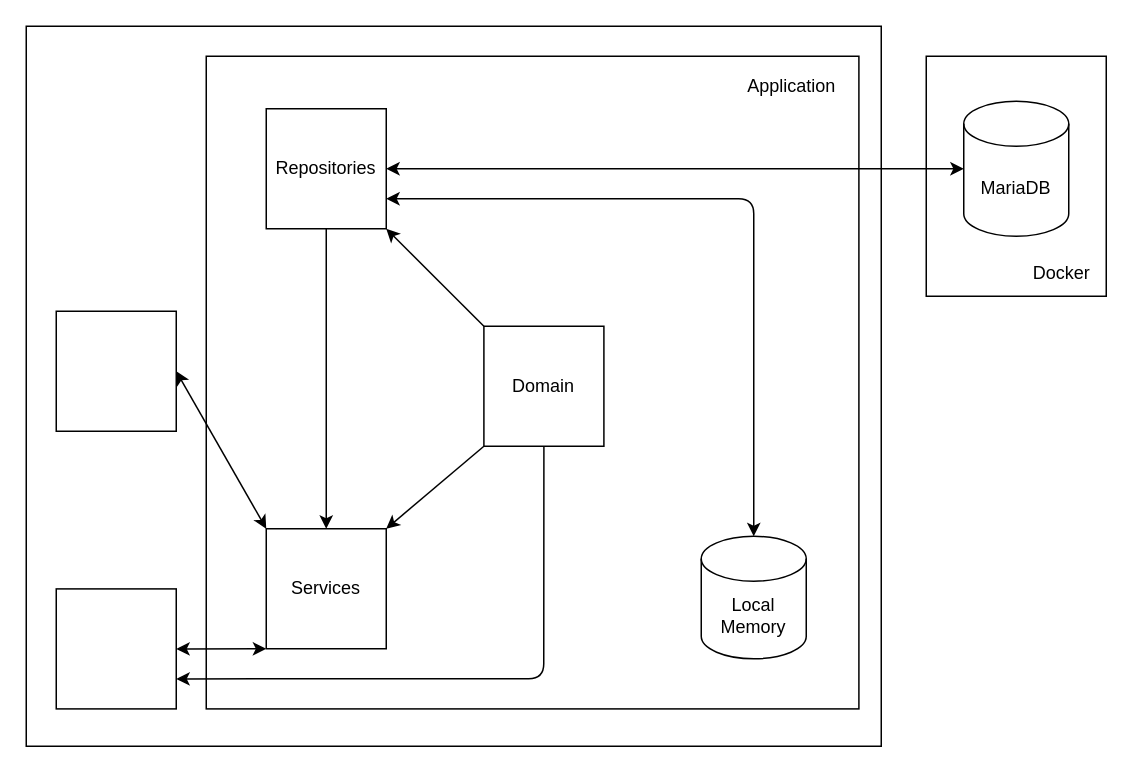
This 1133x773 diagram has some shape labels left out. The centre of each missing label's shape, as x and y in pixels:
API: the point at 115,370
Tests: the point at 115,648
